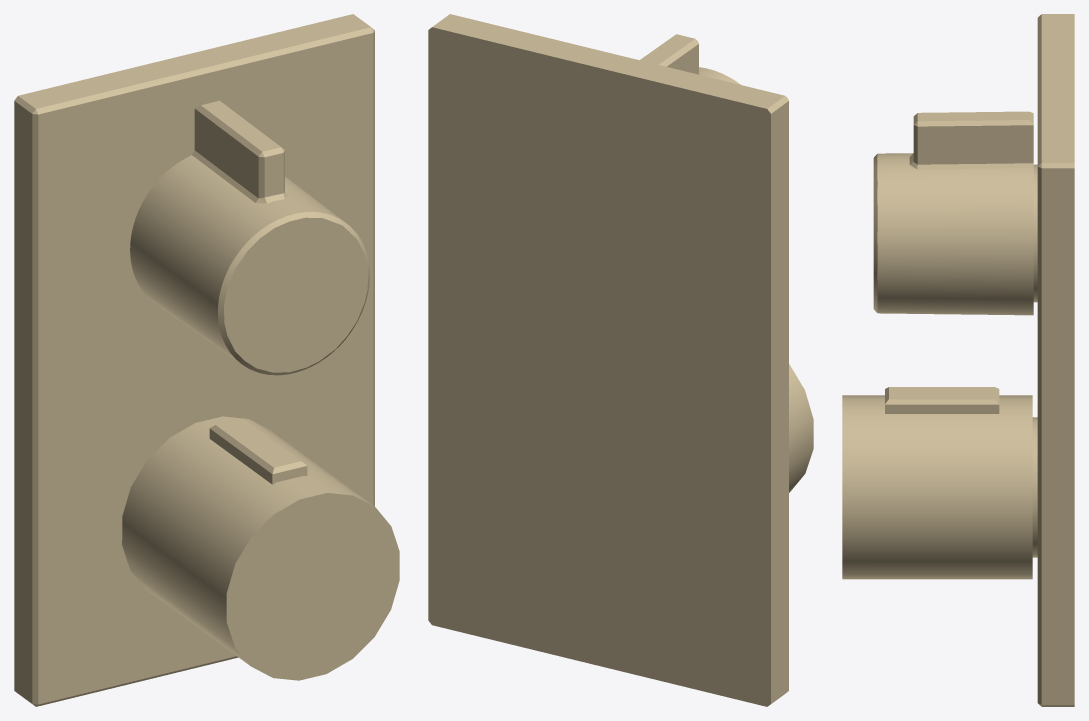
3 views of the same model, side by side, from view 1: azimuth 30°, elevation 25°; view 2: azimuth 150°, elevation 25°; view 3: azimuth 270°, elevation 25° (orthographic). The views are drawn at different scales.
Visible parts, largest first — view 1: L_755c48c0_292c_4114_ab78_be08f5bda6cb_I3, L_fb32d448_c480_47a2_ac0a_bbca4ca6d439_I6, L_d5e6d2bc_0a0b_437f_b6e4_acb8e121776f_I5, L_318b4798_47d0_4ca1_ab17_fd60b03ba60b_I1; view 2: L_755c48c0_292c_4114_ab78_be08f5bda6cb_I3, L_fb32d448_c480_47a2_ac0a_bbca4ca6d439_I6, L_d5e6d2bc_0a0b_437f_b6e4_acb8e121776f_I5; view 3: L_fb32d448_c480_47a2_ac0a_bbca4ca6d439_I6, L_d5e6d2bc_0a0b_437f_b6e4_acb8e121776f_I5, L_755c48c0_292c_4114_ab78_be08f5bda6cb_I3, L_318b4798_47d0_4ca1_ab17_fd60b03ba60b_I1, L_4ba1177e_4ff5_4e43_a85a_0f0dad230ea2_I2, L_941ab5fb_d405_4643_8e9b_3a85df6b3cd1_I4.
Part boxes in pixels (x1,y1,x2,y2): L_755c48c0_292c_4114_ab78_be08f5bda6cb_I3: (14,14,374,706); L_fb32d448_c480_47a2_ac0a_bbca4ca6d439_I6: (122,416,399,680); L_d5e6d2bc_0a0b_437f_b6e4_acb8e121776f_I5: (130,100,369,375); L_318b4798_47d0_4ca1_ab17_fd60b03ba60b_I1: (209,418,307,484); L_755c48c0_292c_4114_ab78_be08f5bda6cb_I3: (428,14,788,706); L_fb32d448_c480_47a2_ac0a_bbca4ca6d439_I6: (789,364,813,492); L_d5e6d2bc_0a0b_437f_b6e4_acb8e121776f_I5: (640,34,740,84); L_fb32d448_c480_47a2_ac0a_bbca4ca6d439_I6: (842,395,1032,579); L_d5e6d2bc_0a0b_437f_b6e4_acb8e121776f_I5: (873,111,1033,315); L_755c48c0_292c_4114_ab78_be08f5bda6cb_I3: (1037,14,1074,706); L_318b4798_47d0_4ca1_ab17_fd60b03ba60b_I1: (885,387,999,413); L_4ba1177e_4ff5_4e43_a85a_0f0dad230ea2_I2: (1032,417,1037,557); L_941ab5fb_d405_4643_8e9b_3a85df6b3cd1_I4: (1033,164,1037,302).
Size of the model in its own units: 0.09 by 0.15 by 0.058.
